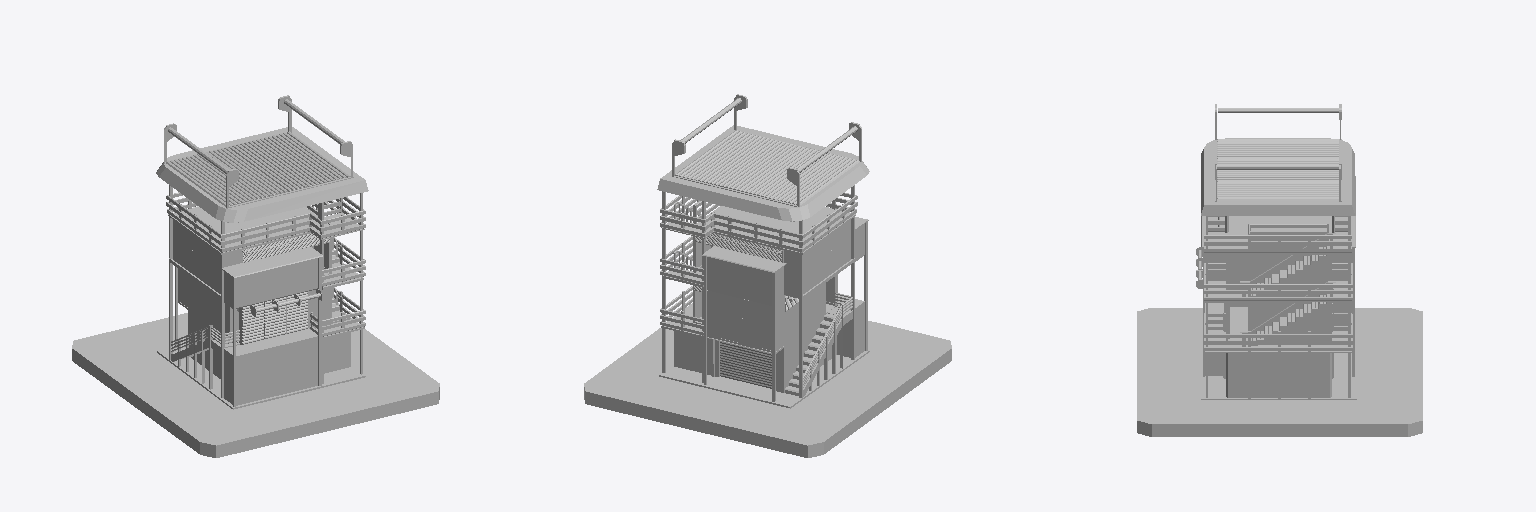
The model's file is Tower-House Design.obj.
3 views of the same model, side by side, from view 1: azimuth 30°, elevation 25°; view 2: azimuth 150°, elevation 25°; view 3: azimuth 270°, elevation 25° (orthographic).
Visible parts, largest first — view 1: Plane; view 2: Plane; view 3: Plane.
Boxes of the visible parts, x1,y1,x2,y2 form: Plane: [72, 95, 439, 457]; Plane: [584, 94, 951, 457]; Plane: [1137, 104, 1422, 436].
Size of the model in its own units: 15.44 by 15.13 by 16.